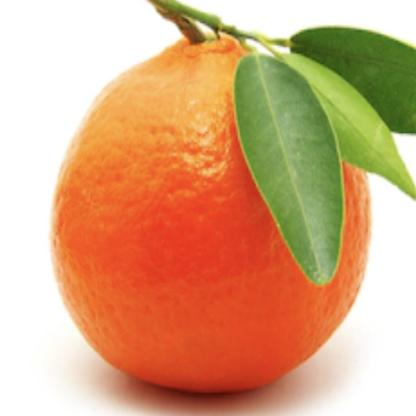fresh: (45, 34, 378, 393)
